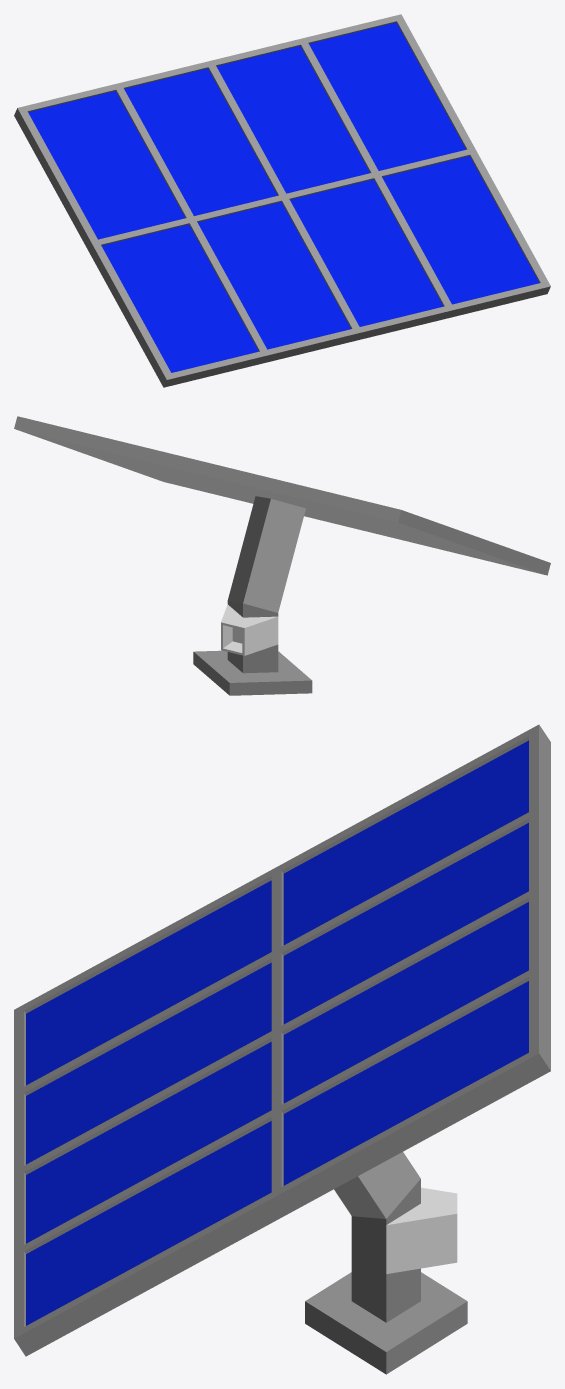
The model's file is Solar Panel.fbx.
The picture shows the model from 3 angles, top to bottom: view 1: azimuth 30°, elevation 25°; view 2: azimuth 150°, elevation 25°; view 3: azimuth 270°, elevation 25°; orthographic projection. The views are drawn at different scales.
Visible parts, largest first — view 1: Solar Panel; view 2: Solar Panel, Wire Plug; view 3: Solar Panel, Wire Plug.
Part boxes in pixels (x1,y1,x2,y2): Solar Panel: (14,14,550,387); Solar Panel: (14,416,550,695); Wire Plug: (221,604,278,655); Solar Panel: (14,724,550,1374); Wire Plug: (386,1187,457,1273).
Size of the model in its own units: 445 by 274 by 307.
